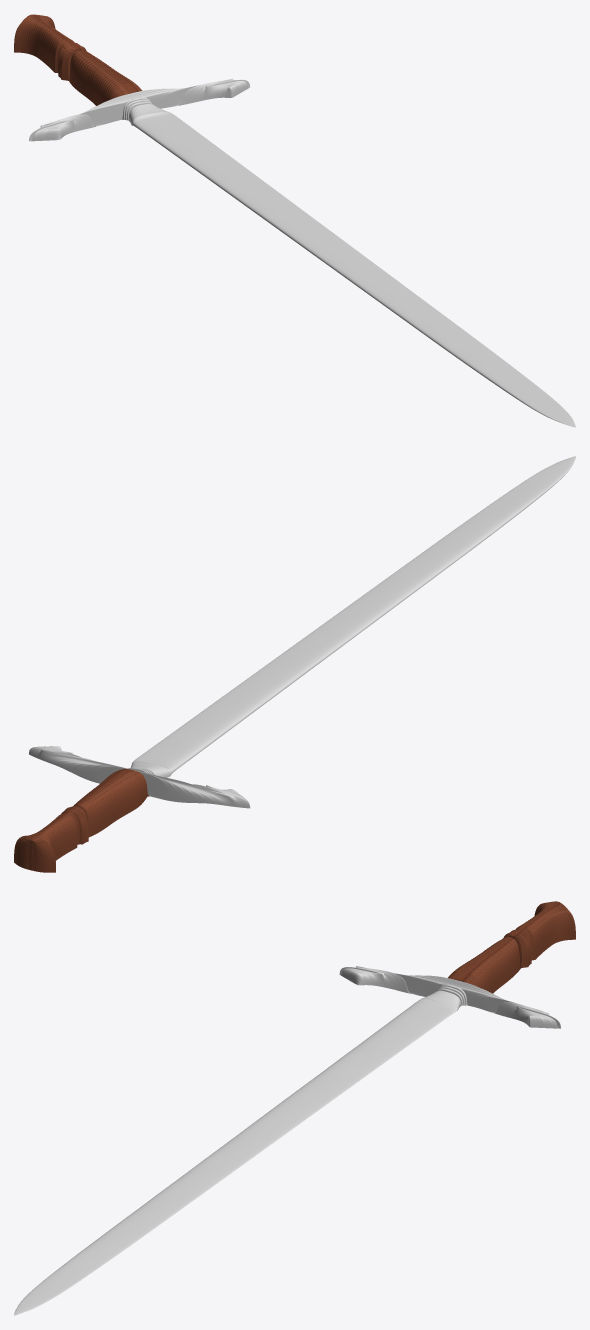
The model's file is sword.fbx.
The picture shows the model from 3 angles, top to bottom: view 1: azimuth 30°, elevation 25°; view 2: azimuth 150°, elevation 25°; view 3: azimuth 330°, elevation 25°; orthographic projection.
Parts seen in each view (by area): view 1: path7717; view 2: path7717; view 3: path7717.
Part boxes in pixels (x1,y1,x2,y2): path7717: (14, 14, 575, 427); path7717: (14, 456, 575, 872); path7717: (14, 901, 575, 1315).
Size of the model in its own units: 395 by 51.23 by 1682.
Materials: 2 (1 with a texture image).
